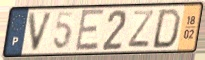2: (101, 8, 129, 52)
5: (51, 11, 76, 52)
D: (149, 7, 182, 50)
E: (74, 8, 107, 54)
V: (27, 10, 55, 54)
Z: (126, 9, 156, 49)
